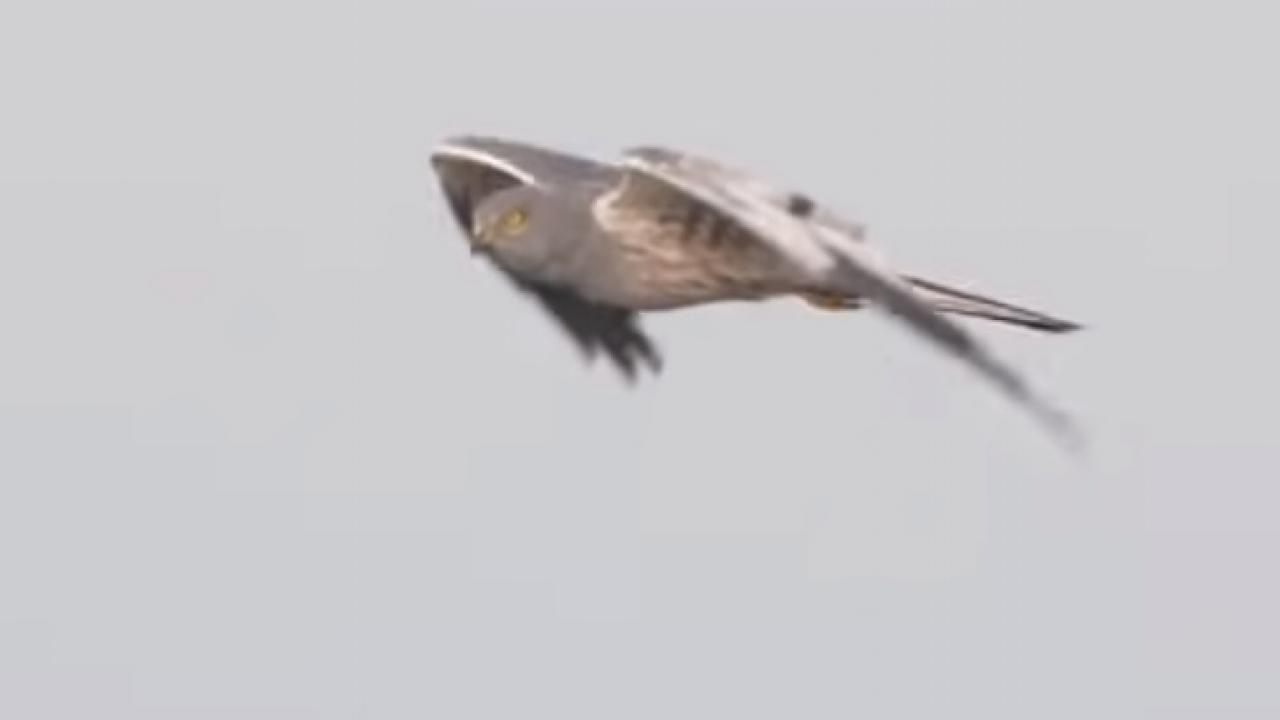Bird: (419, 118, 1095, 476)
